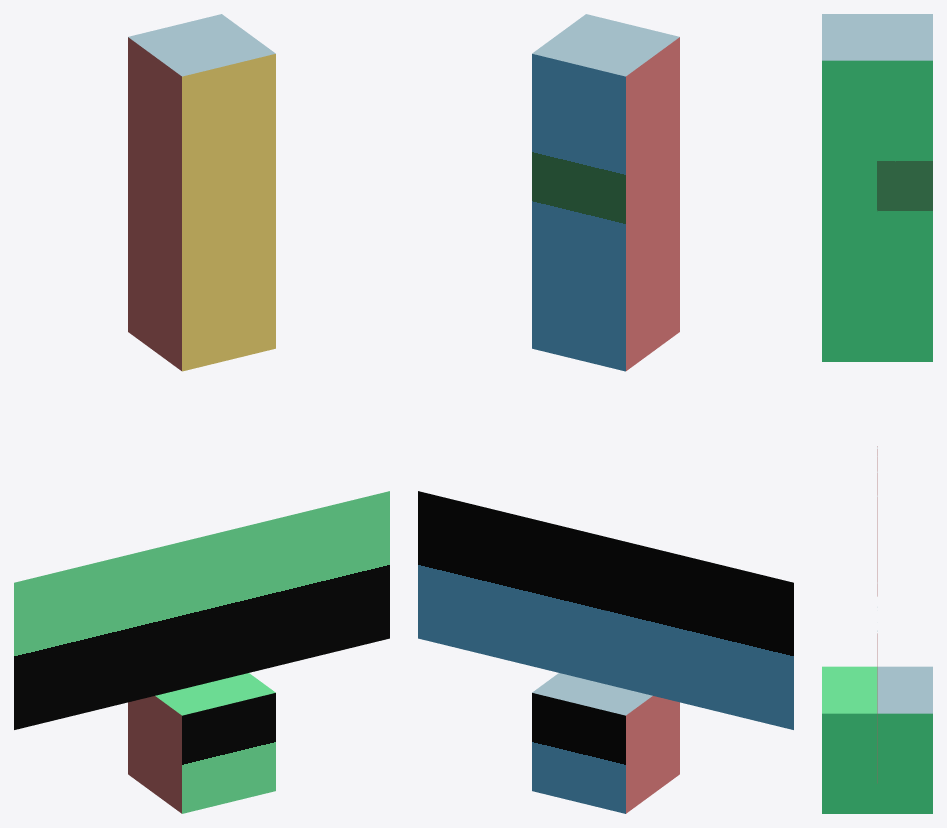
The picture shows the model from 3 angles, left to right: view 1: azimuth 30°, elevation 25°; view 2: azimuth 150°, elevation 25°; view 3: azimuth 270°, elevation 25°; orthographic projection. The views are drawn at different scales.
Visible parts, largest first — view 1: cube (×3); view 2: cube (×3); view 3: cube (×3).
Part boxes in pixels (x1,y1,x2,y2): cube (×3): (14,14,389,813); cube (×3): (418,14,793,813); cube (×3): (822,14,932,813).
Bounding box in the file's own units: 0.5 × 0.9375 × 0.125.
Materials: 3 (3 with a texture image).
